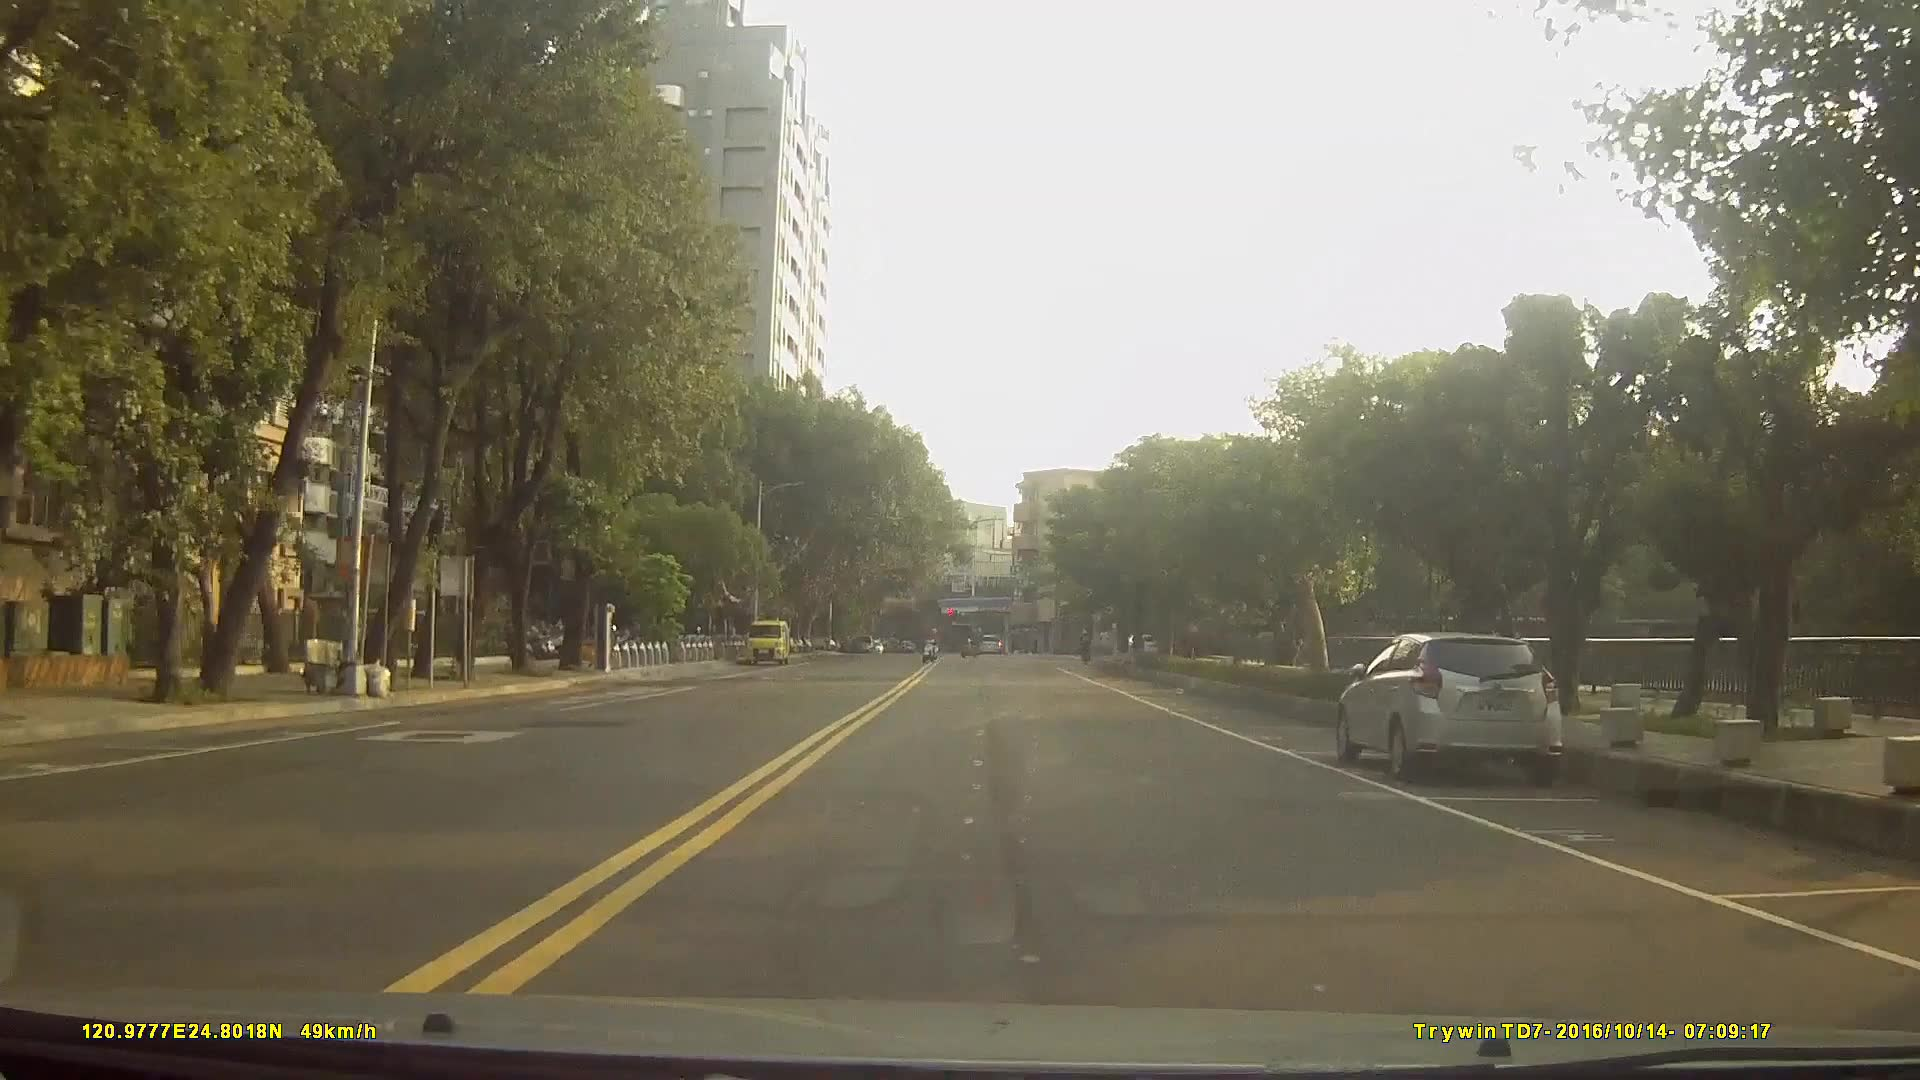rider: (921, 628, 944, 665), (961, 626, 984, 659)
vehicle: (1333, 627, 1567, 789), (978, 629, 1005, 654)
